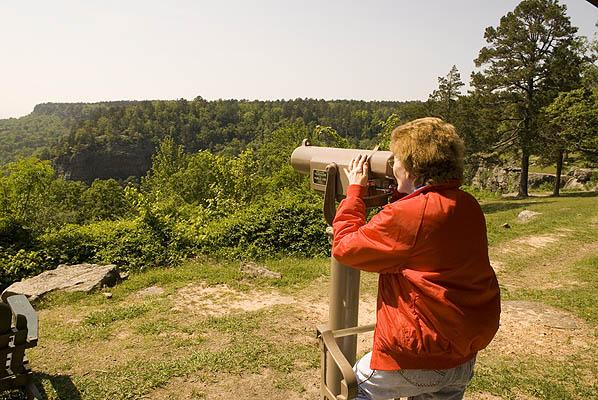person: (332, 116, 500, 395)
